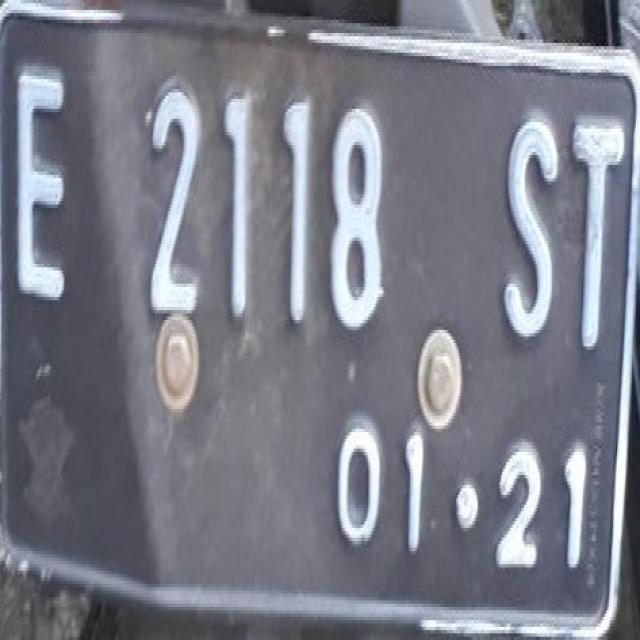plate: (0, 3, 637, 630)
